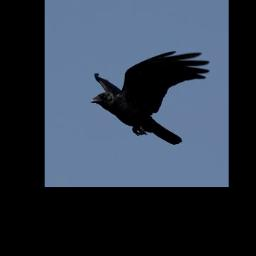Crow: (89, 49, 211, 145)
